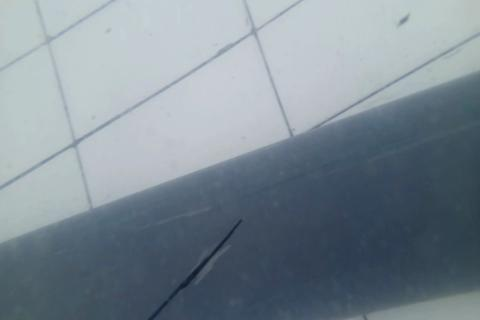keretakan: (147, 215, 243, 320)
